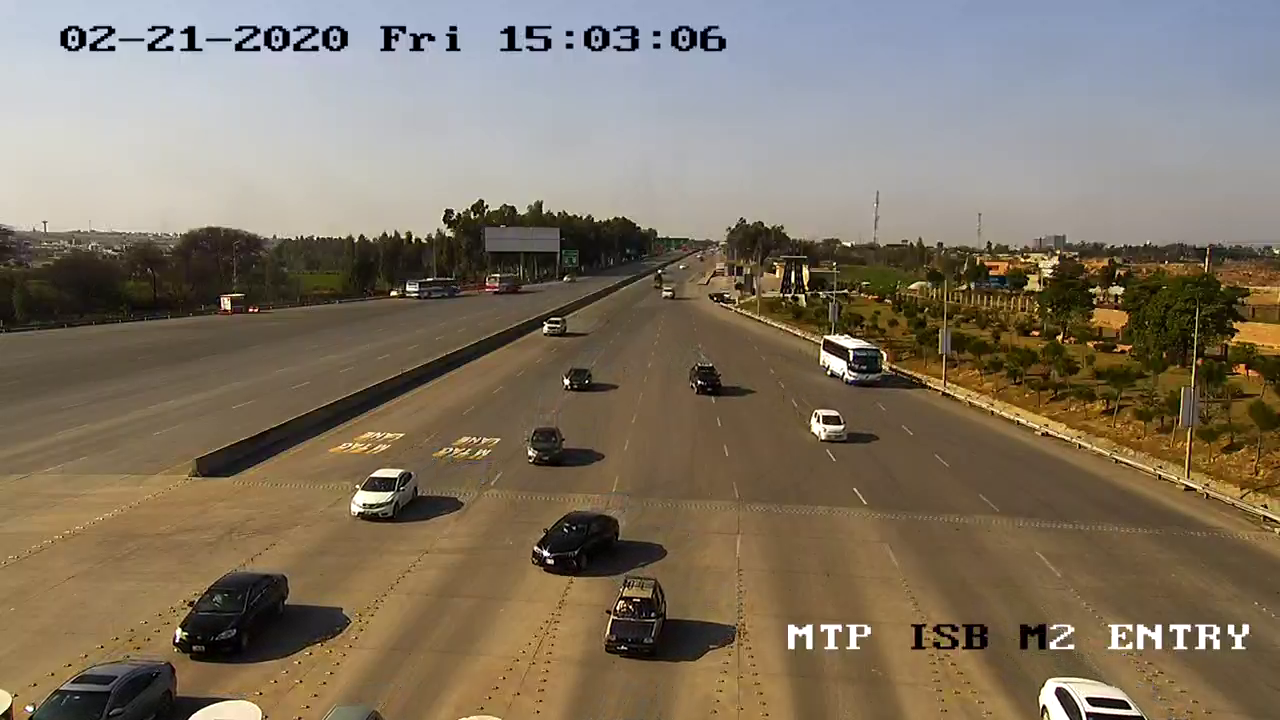f1: (162, 558, 297, 666), (594, 571, 675, 671), (526, 503, 628, 582), (346, 455, 423, 528), (521, 418, 575, 474), (672, 358, 734, 403), (803, 404, 855, 451)
